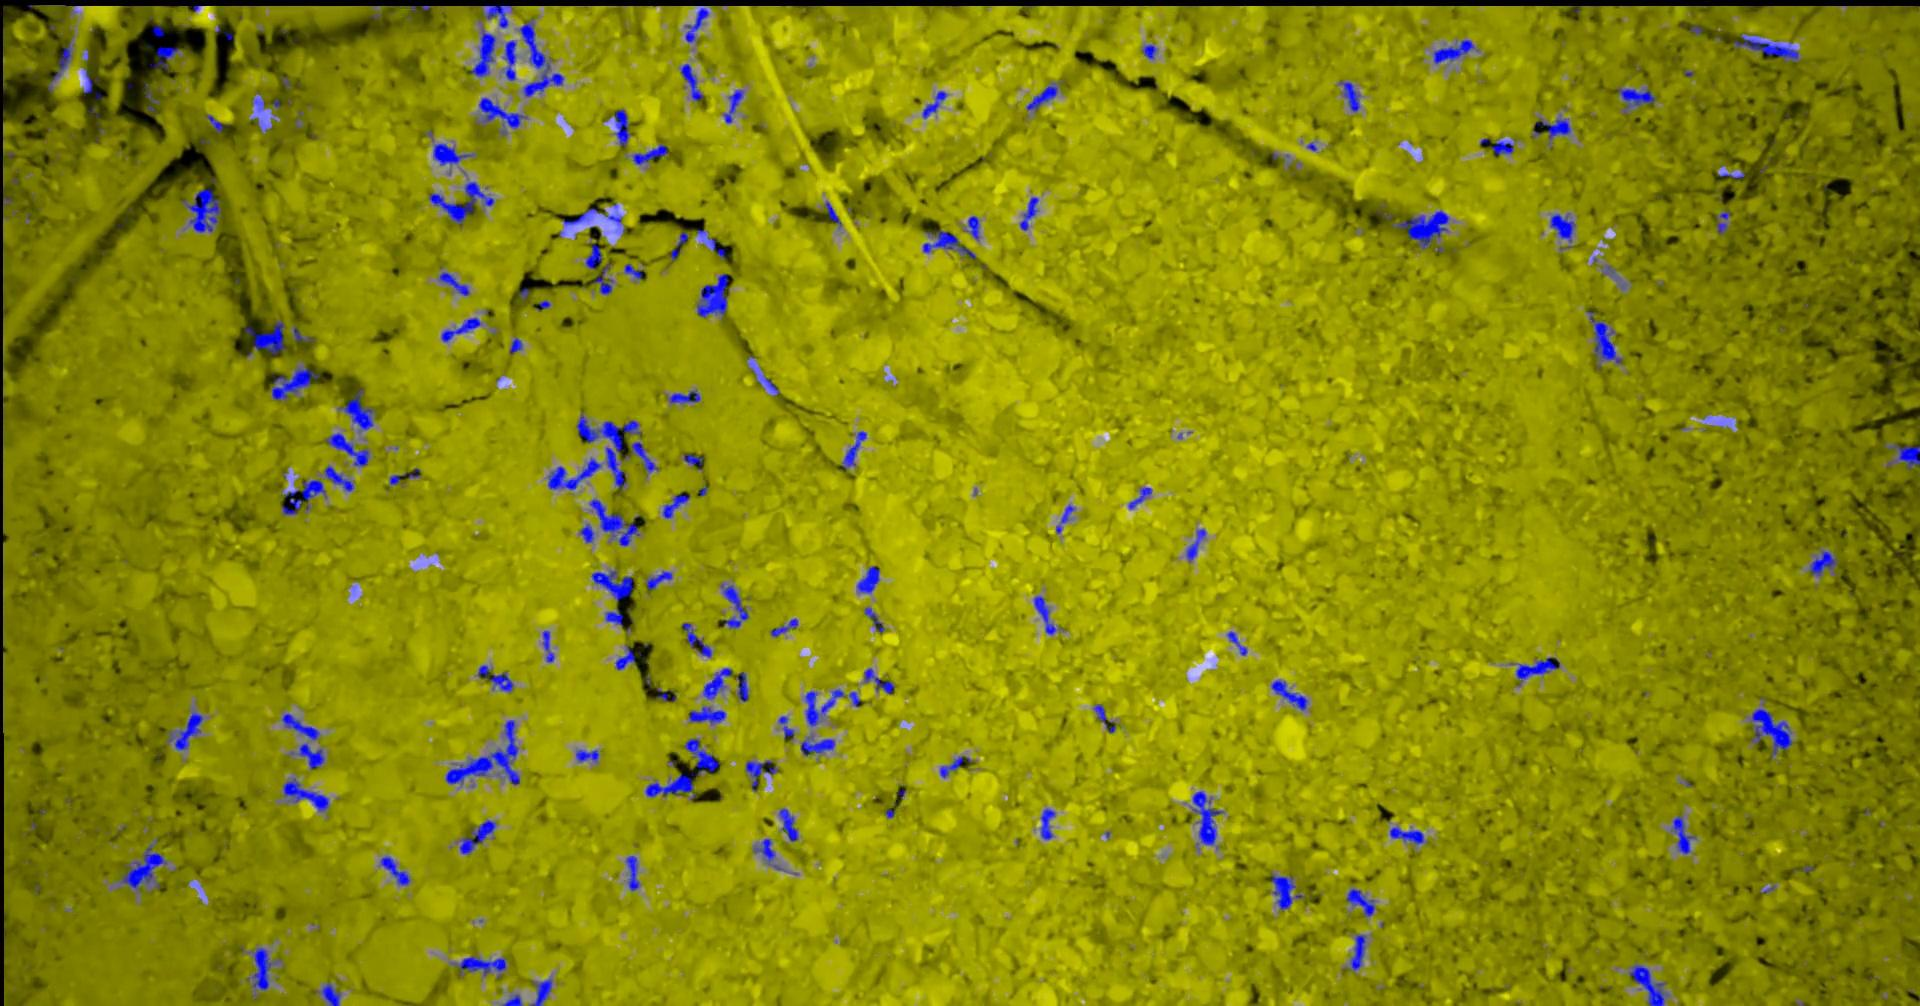ant: (518, 18, 563, 97), (428, 180, 494, 224), (589, 498, 639, 545), (1390, 210, 1448, 249), (121, 843, 166, 890), (1750, 708, 1792, 758), (1586, 311, 1622, 370), (477, 97, 526, 135), (1733, 33, 1798, 61), (180, 188, 221, 232), (1190, 791, 1223, 845), (547, 457, 601, 489), (270, 366, 319, 400), (1628, 964, 1669, 1005), (281, 479, 326, 514), (338, 387, 375, 431), (922, 229, 975, 258), (282, 777, 329, 810), (804, 688, 844, 727), (325, 432, 368, 466), (243, 320, 284, 354), (696, 273, 728, 318), (168, 711, 202, 749), (590, 570, 632, 601), (458, 819, 495, 854), (47, 39, 71, 91), (720, 583, 748, 627), (246, 948, 276, 989), (469, 30, 495, 76), (1270, 874, 1304, 909), (450, 956, 505, 978), (1515, 657, 1559, 683), (1032, 594, 1062, 634), (1271, 680, 1307, 710), (681, 622, 711, 657), (281, 713, 319, 739), (1432, 39, 1474, 64), (745, 760, 777, 791), (841, 431, 866, 469), (1670, 815, 1695, 854), (477, 664, 513, 691), (378, 855, 409, 885), (702, 667, 731, 699), (441, 318, 480, 340), (1025, 83, 1057, 111), (631, 441, 659, 473), (432, 144, 472, 165), (681, 64, 703, 102), (1617, 86, 1655, 109), (1550, 213, 1575, 249), (684, 8, 709, 42), (1345, 888, 1374, 916), (610, 109, 631, 146), (938, 754, 973, 777), (324, 465, 353, 492), (1888, 443, 1919, 469), (863, 668, 894, 694), (1537, 117, 1570, 140), (921, 90, 947, 118), (149, 44, 179, 69), (1810, 550, 1837, 575), (723, 89, 743, 123), (632, 144, 667, 164), (438, 272, 469, 295), (297, 743, 324, 768), (662, 494, 690, 518), (483, 4, 512, 27), (688, 706, 725, 724), (1018, 196, 1037, 230), (800, 735, 834, 754), (1185, 528, 1205, 560), (856, 565, 879, 593), (1093, 702, 1115, 732), (778, 808, 797, 841), (1338, 80, 1359, 111), (563, 207, 597, 225), (1389, 826, 1423, 843), (1349, 934, 1365, 970), (530, 977, 551, 1005), (593, 263, 612, 293), (502, 39, 516, 80), (1055, 504, 1074, 533), (1128, 486, 1150, 509), (317, 982, 340, 1005), (753, 838, 775, 862), (863, 607, 884, 633), (389, 467, 419, 484), (670, 232, 688, 260), (770, 619, 797, 636), (625, 855, 639, 890), (1225, 631, 1246, 655), (615, 645, 635, 669), (1040, 808, 1055, 840), (646, 570, 670, 589), (668, 389, 700, 403), (204, 114, 229, 132), (143, 83, 159, 111), (757, 376, 778, 395), (825, 201, 841, 227), (585, 243, 601, 269), (777, 715, 794, 739), (707, 238, 725, 259), (735, 672, 748, 701), (83, 69, 98, 93), (598, 210, 622, 225), (604, 607, 623, 626), (542, 630, 554, 662), (1716, 210, 1730, 234), (623, 263, 643, 279), (966, 215, 979, 239), (1491, 141, 1512, 155), (683, 453, 702, 469), (292, 326, 312, 340), (655, 687, 676, 701), (580, 523, 594, 542), (575, 749, 598, 761), (509, 337, 522, 353), (502, 995, 522, 1005), (1142, 44, 1156, 58), (251, 95, 264, 111), (848, 691, 860, 706), (151, 24, 164, 37)
